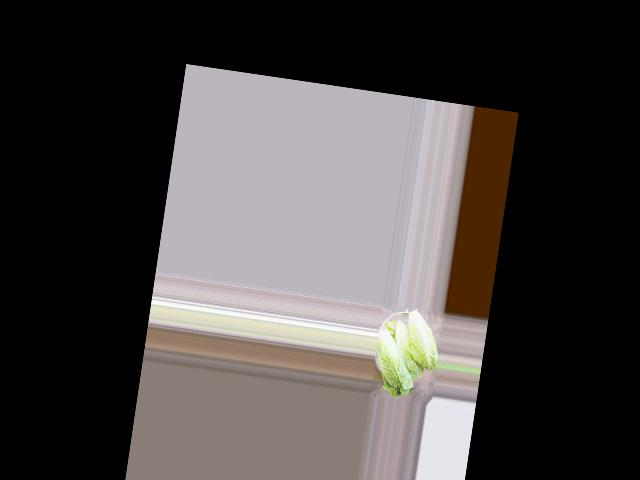lettuce: (369, 320, 423, 397)
